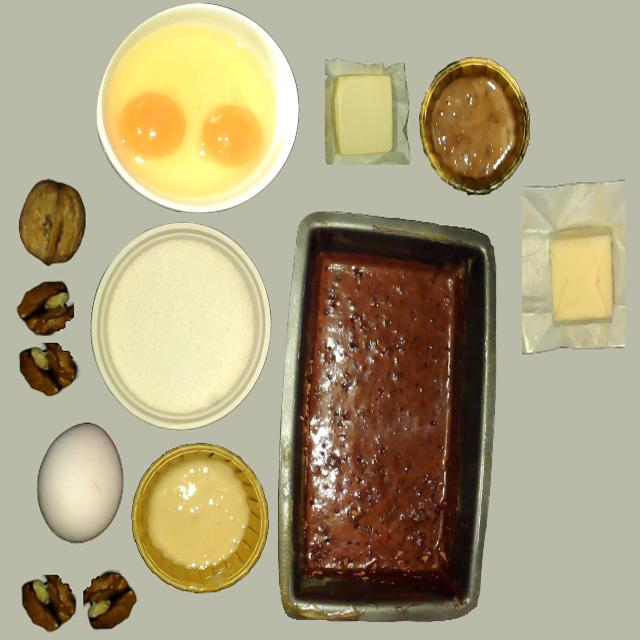Egg: (118, 92, 186, 162), (200, 104, 262, 168)
Sugar: (92, 224, 268, 430)
Walnut: (19, 180, 84, 266)
